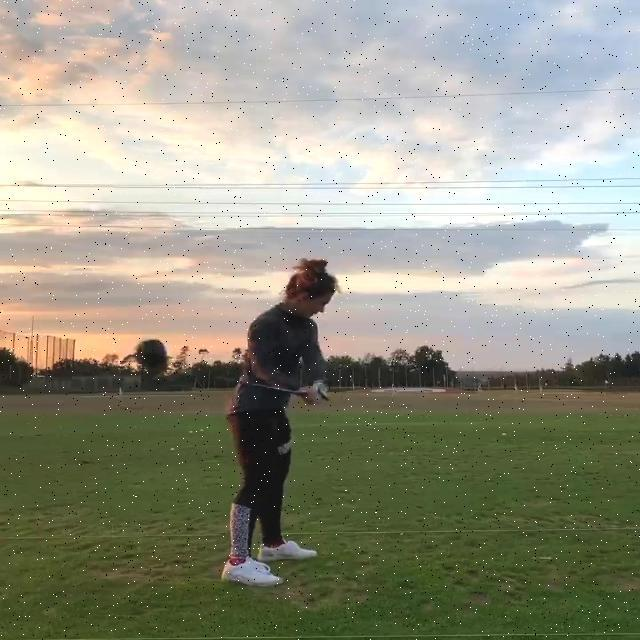golf club-handle: (136, 340, 304, 397)
golf club-head: (136, 340, 169, 374)
